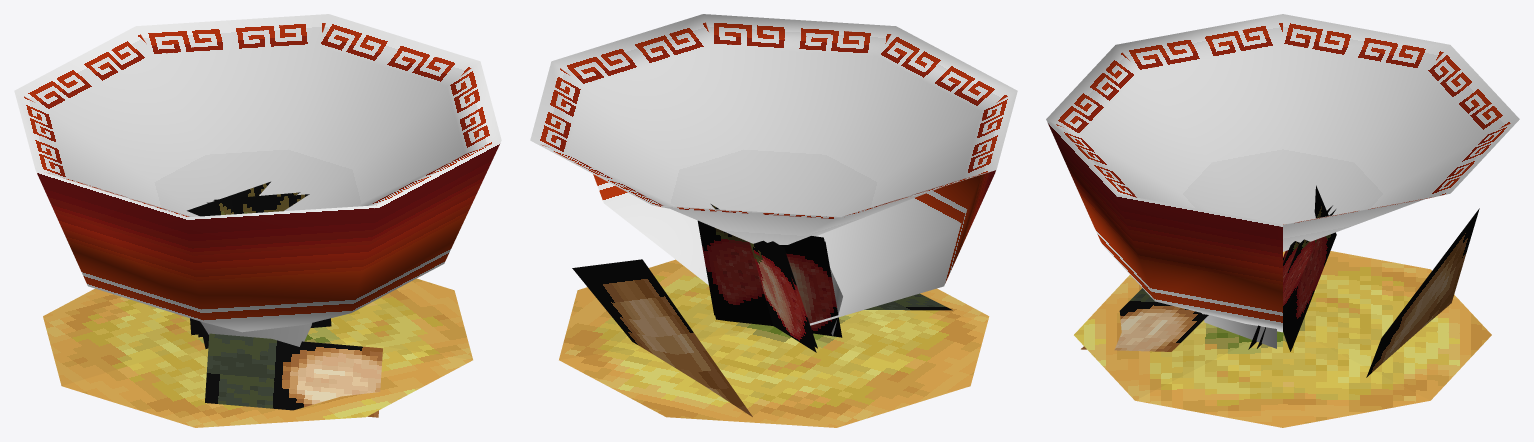
3 views of the same model, side by side, from view 1: azimuth 30°, elevation 25°; view 2: azimuth 150°, elevation 25°; view 3: azimuth 270°, elevation 25° (orthographic). The views are drawn at different scales.
Parts seen in each view (by area): view 1: 5519u_ramn01_hs; view 2: 5519u_ramn01_hs; view 3: 5519u_ramn01_hs.
Boxes of the visible parts, x1,y1,x2,y2 form: 5519u_ramn01_hs: (14, 14, 501, 427); 5519u_ramn01_hs: (530, 14, 1017, 427); 5519u_ramn01_hs: (1046, 14, 1519, 427).
Size of the model in its own units: 0.7798 by 0.4629 by 0.7417.
Materials: 5 (5 with a texture image).
